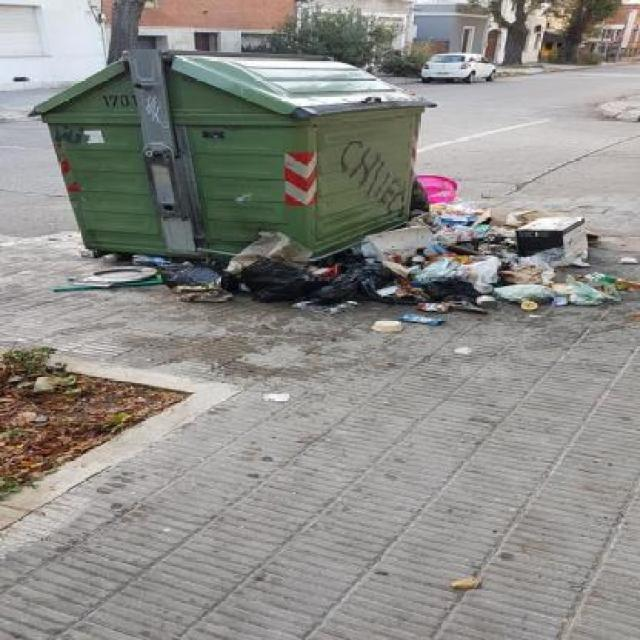garbage: (66, 240, 620, 326), (403, 162, 566, 335), (354, 306, 492, 364), (425, 574, 504, 600), (263, 377, 302, 417)
